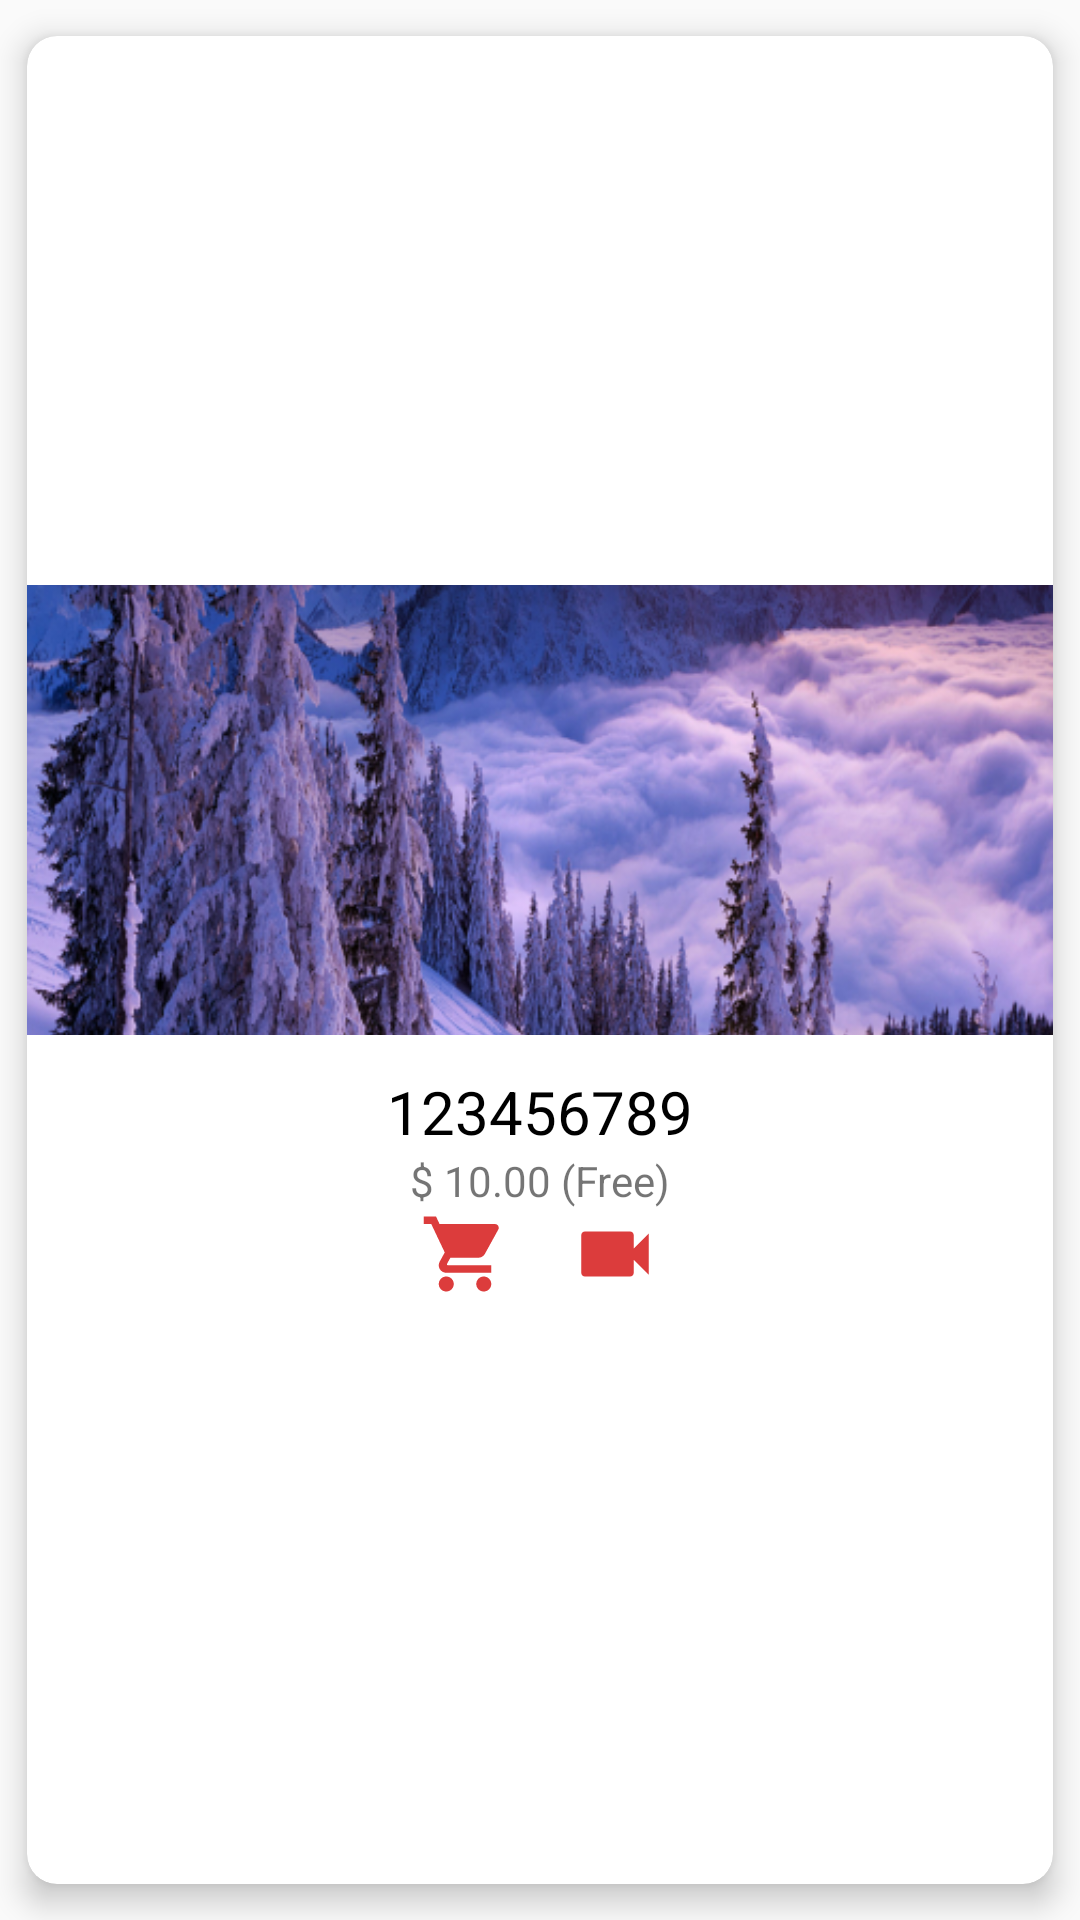

Icons on this 1080px x 1920px Android screen, each with the point to tap as (x=x, y=y):
local grocery store: (x=461, y=1254)
videocam: (x=615, y=1254)
